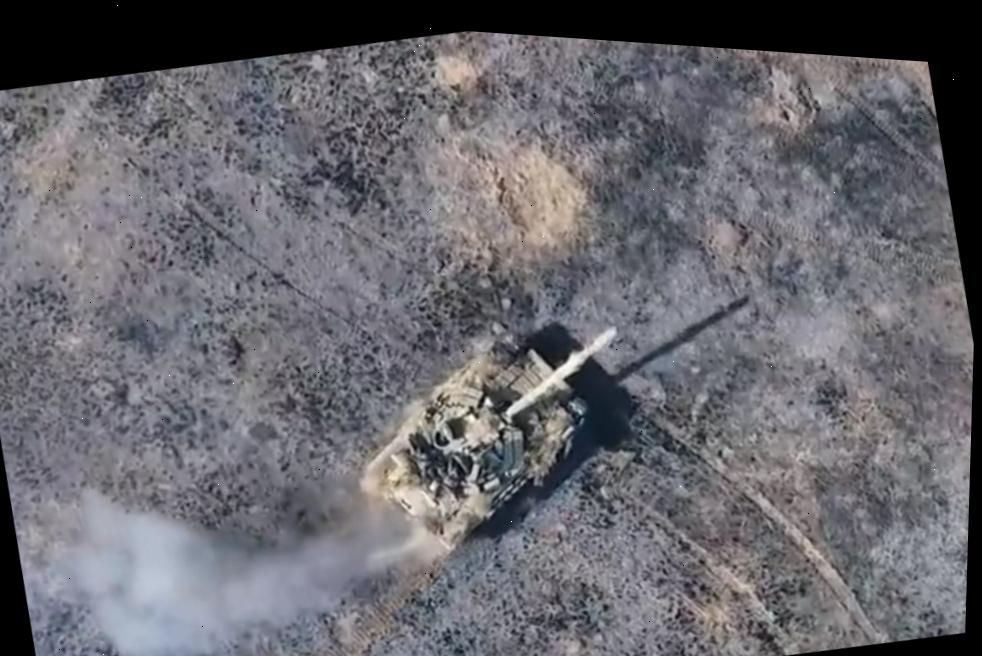tank: (333, 283, 673, 584)
